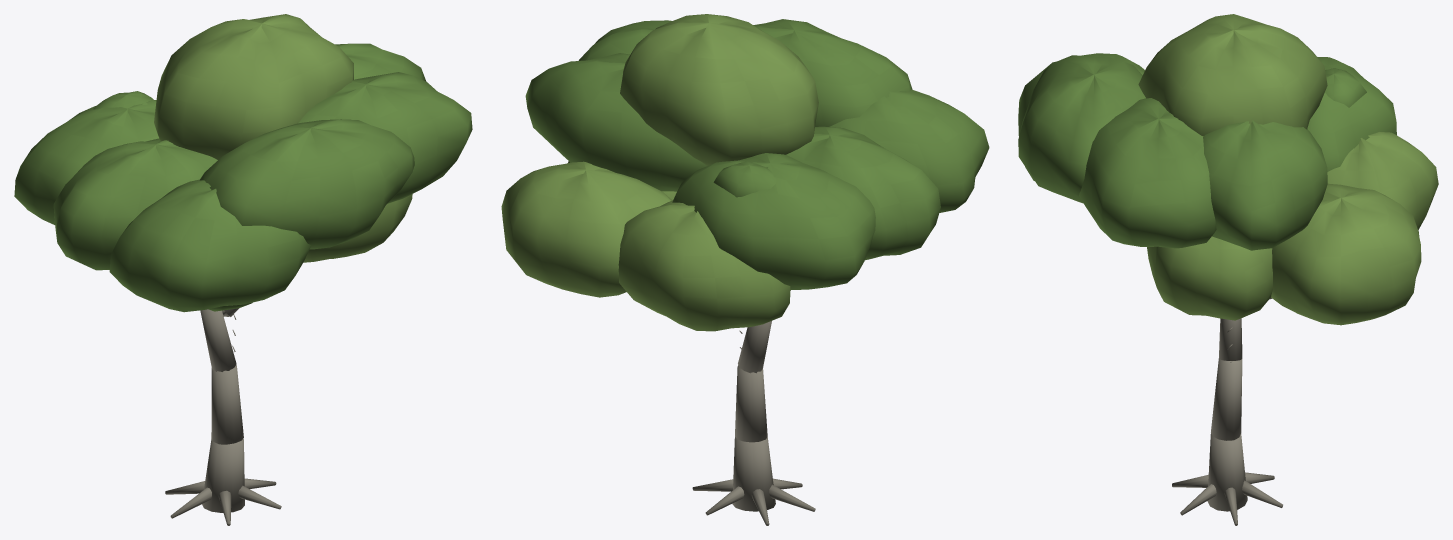
Rendered from beech_canopy_5.glb.
3 renders of one model, left to right at view 1: azimuth 30°, elevation 25°; view 2: azimuth 150°, elevation 25°; view 3: azimuth 270°, elevation 25°, orthographic. The views are drawn at different scales.
Parts seen in each view (by area): view 1: beech_canopy_5_painted_export; view 2: beech_canopy_5_painted_export; view 3: beech_canopy_5_painted_export.
Boxes of the visible parts, box(x1,y1,x2,y2) form: beech_canopy_5_painted_export: box(14, 14, 472, 525); beech_canopy_5_painted_export: box(501, 14, 989, 525); beech_canopy_5_painted_export: box(1018, 14, 1438, 525).
Size of the model in its own units: 12.93 by 15.08 by 11.64.
